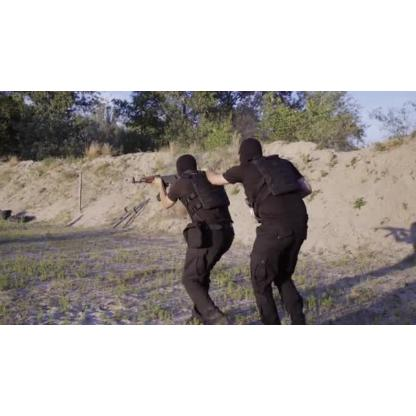gun: (128, 168, 190, 202)
